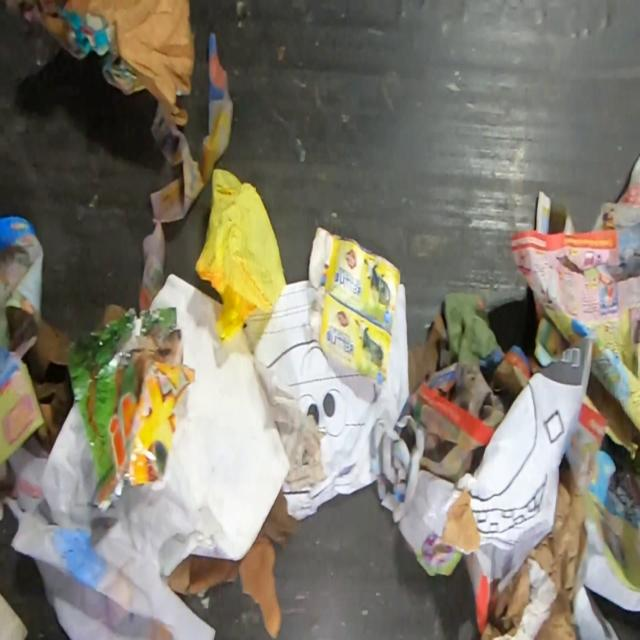cardboard: (477, 464, 587, 640), (62, 0, 197, 128), (307, 225, 402, 384), (408, 311, 456, 396), (0, 593, 29, 640)
